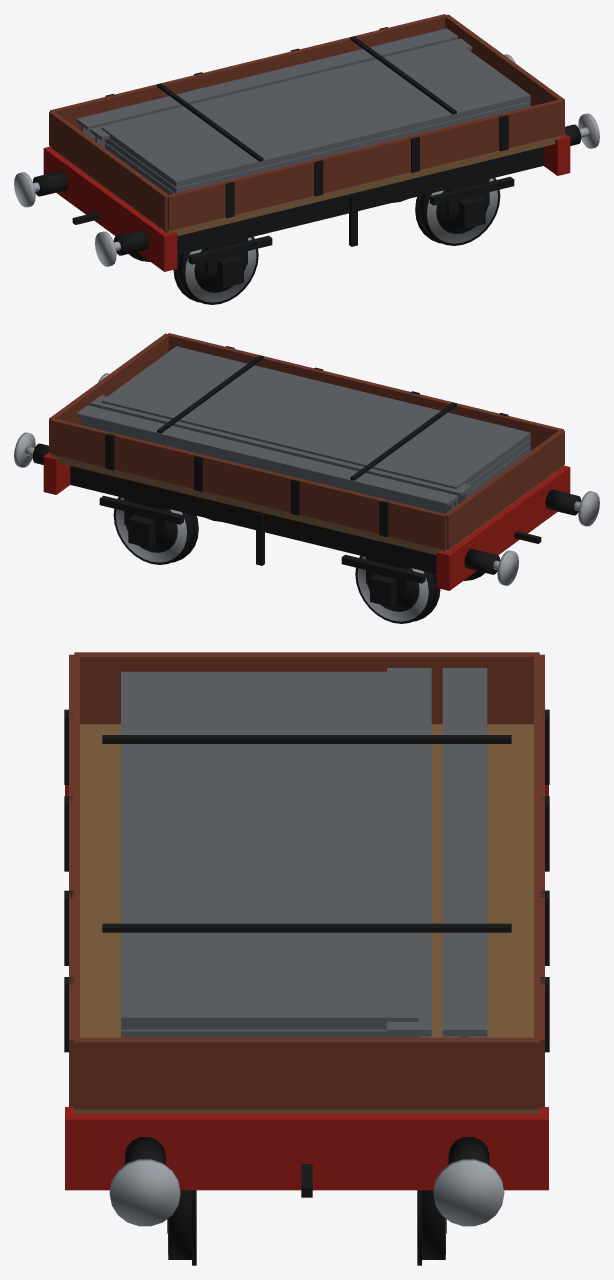
File: steel_truck.glb
3 renders of one model, top to bottom at view 1: azimuth 30°, elevation 25°; view 2: azimuth 150°, elevation 25°; view 3: azimuth 270°, elevation 25°, orthographic. The views are drawn at different scales.
Parts seen in each view (by area): view 1: chapa.004, borda.001, longarina.001, borda, perfil_mesa, viga.001, cabeceira.001, assoalho, chapa.003, cabeceira, roda_face-1, roda_face-1.001 (+21 smaller); view 2: chapa.004, borda, longarina, perfil_mesa, borda.001, viga.001, cabeceira.001, assoalho, perfil_alma, perfil_mesa.001, cabeceira, roda_face1 (+22 smaller); view 3: chapa.004, cabeceira, assoalho, viga, perfil_mesa, cabeceira.001, perfil_mesa.001, borda, borda.001, amarra.001, buffer_cabeca, buffer_cabeca.001 (+6 smaller).
Part boxes in pixels (<box>): chapa.004: <box>102,41,530,187</box>; borda.001: <box>166,99,563,230</box>; longarina.001: <box>177,147,543,255</box>; borda: <box>50,14,446,130</box>; perfil_mesa: <box>76,28,458,129</box>; viga.001: <box>43,146,177,271</box>; cabeceira.001: <box>49,111,169,230</box>; assoalho: <box>51,135,562,235</box>; chapa.003: <box>105,101,530,193</box>; cabeceira: <box>445,14,564,133</box>; roda_face-1: <box>427,178,498,243</box>; roda_face-1.001: <box>185,237,256,302</box>; chapa.004: <box>102,346,530,488</box>; borda: <box>50,418,447,549</box>; longarina: <box>70,466,436,574</box>; perfil_mesa: <box>76,405,458,506</box>; borda.001: <box>167,333,563,450</box>; viga.001: <box>436,465,570,590</box>; cabeceira.001: <box>445,430,564,549</box>; assoalho: <box>51,454,562,554</box>; perfil_alma: <box>81,418,453,513</box>; perfil_mesa.001: <box>90,395,472,496</box>; cabeceira: <box>49,333,168,452</box>; roda_face1: <box>115,497,186,562</box>; chapa.004: <box>121,671,418,1029</box>; cabeceira: <box>74,1037,539,1109</box>; assoalho: <box>74,724,539,1113</box>; viga: <box>65,1107,548,1190</box>; perfil_mesa: <box>442,668,487,1036</box>; cabeceira.001: <box>74,652,539,724</box>; perfil_mesa.001: <box>387,668,431,1036</box>; borda: <box>534,654,544,1107</box>; borda.001: <box>69,654,79,1107</box>; amarra.001: <box>102,923,511,932</box>; buffer_cabeca: <box>433,1159,504,1226</box>; buffer_cabeca.001: <box>109,1159,180,1226</box>.
Bounding box in the file's own units: 6.05 × 1.82 × 2.61.
